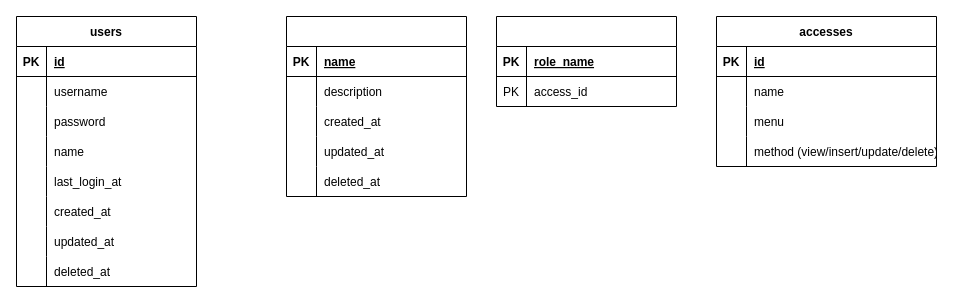
Some shapes in this 955 by 303 pixel diagram are drawn without their labels. Each missing label, with the box of its shape:
role_to_access: (496, 16, 676, 106)
roles: (286, 16, 466, 196)
